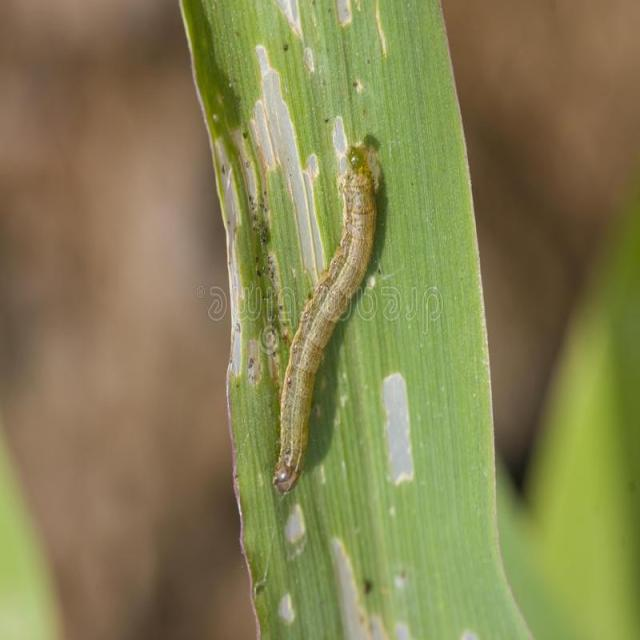army worm: (267, 132, 390, 502)
